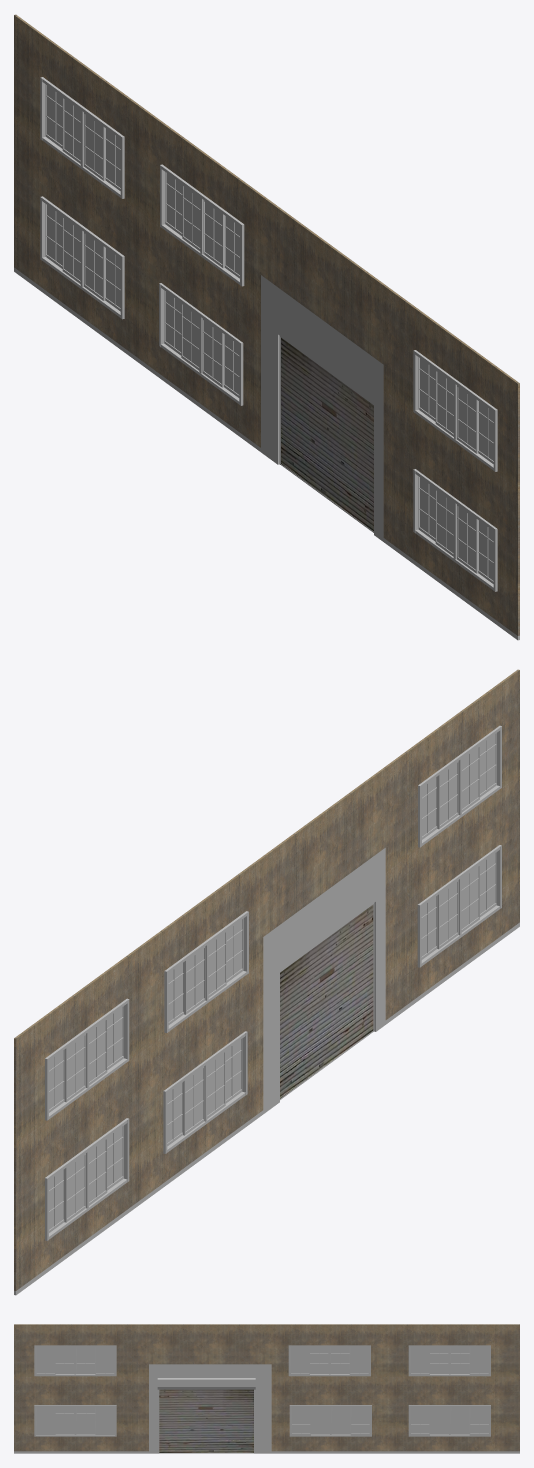
Rendered from Factory_Small_04d.fbx.
3 renders of one model, top to bottom at view 1: azimuth 30°, elevation 25°; view 2: azimuth 150°, elevation 25°; view 3: azimuth 270°, elevation 25°, orthographic. The views are drawn at different scales.
Parts seen in each view (by area): view 1: Factory_Small_04d; view 2: Factory_Small_04d; view 3: Factory_Small_04d.
Part boxes in pixels (x1=…): Factory_Small_04d: x1=14, y1=14, x2=519, y2=640; Factory_Small_04d: x1=14, y1=669, x2=519, y2=1295; Factory_Small_04d: x1=14, y1=1324, x2=519, y2=1453.
Bounding box in the file's own units: 0.298 × 5.9 × 21.
